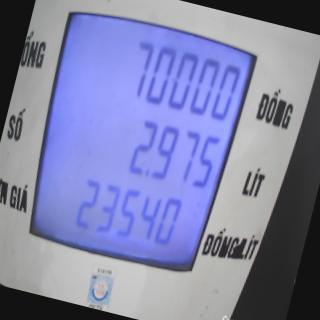screen: (8, 0, 268, 289)
